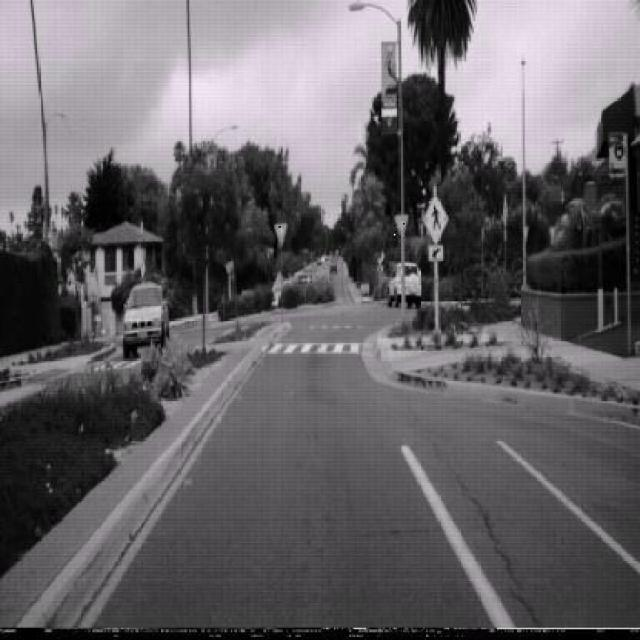pedestrianCrossing: (422, 192, 448, 245)
yield: (394, 212, 409, 239), (274, 222, 288, 246)
